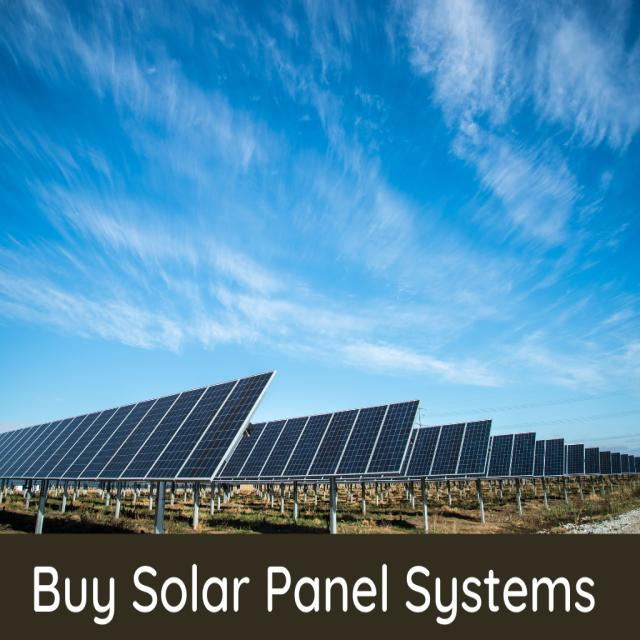clean-solar-panel: (1, 372, 274, 480), (218, 400, 420, 482), (406, 421, 491, 478)
